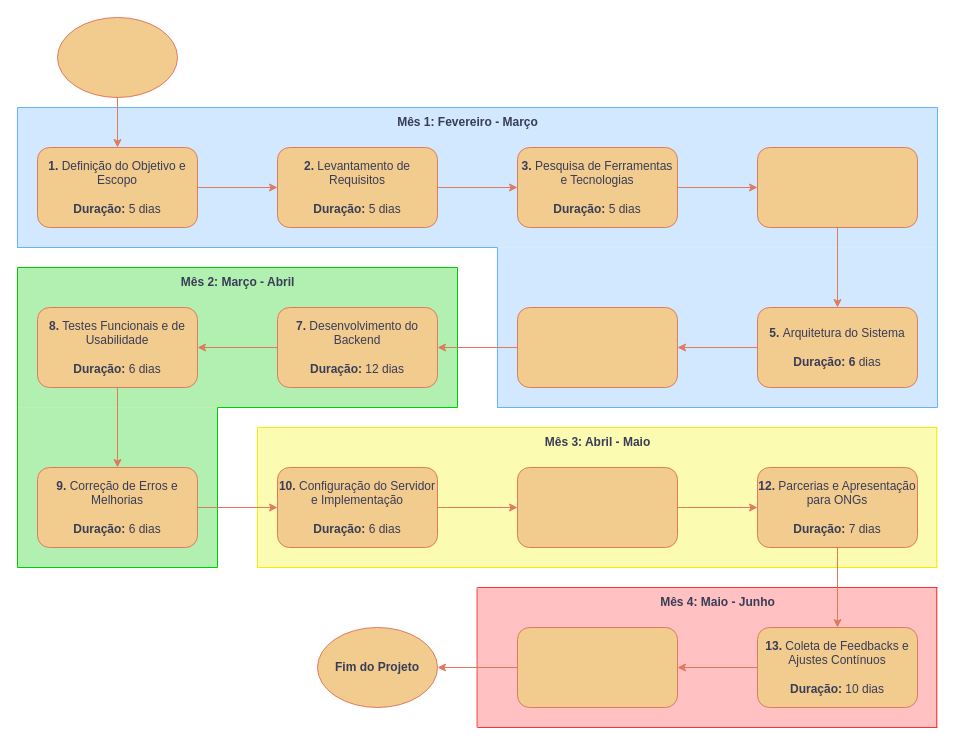
This 956x746 diagram has some shape labels left out. The shapes that lost their labels are listed below. From the top down, each one's centre as x and y in pixels, then its label:
At point 117,57: "Início do Projeto".
At point 837,187: "4. Elaboração do Cronograma Duração: 3 dias".
At point 597,347: "6. Desenvolvimento da Interface Duração: 7 dias".
At point 597,507: "11. Criação de Material de Divulgação Duração: 10 dias".
At point 597,667: "14. Expansão de Funcionalidades Duração: 10 dias".
